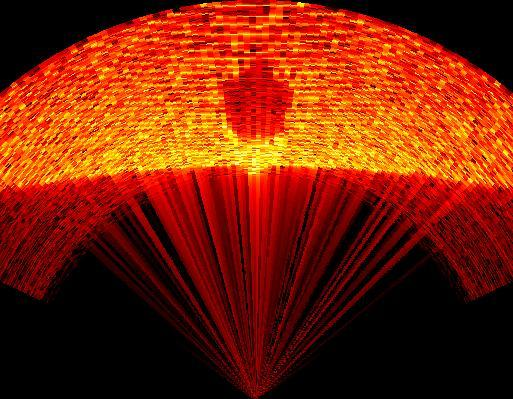box_crate: (220, 58, 294, 142)
